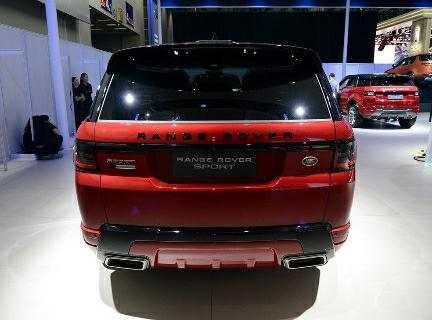路虎-揽胜运动版: (71, 39, 362, 284)
